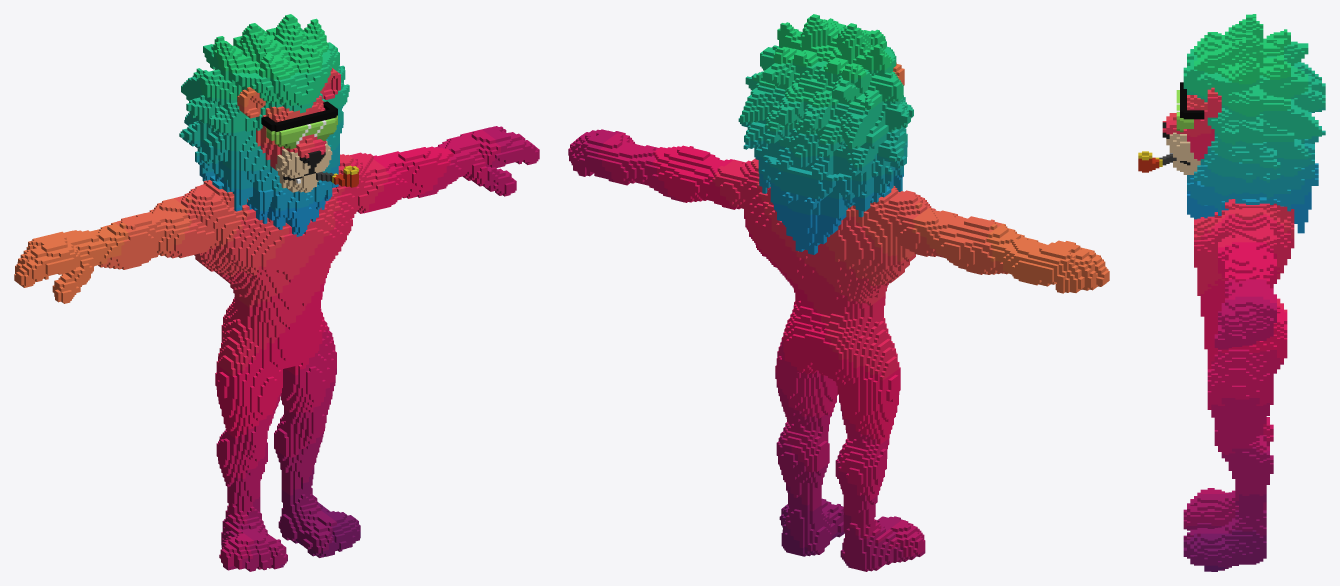
The model's file is 237-BJuMXq-b.glb.
3 renders of one model, left to right at view 1: azimuth 30°, elevation 25°; view 2: azimuth 150°, elevation 25°; view 3: azimuth 270°, elevation 25°, orthographic. The views are drawn at different scales.
Parts seen in each view (by area): view 1: pipe; view 2: pipe; view 3: pipe.
Part boxes in pixels (box(x1,y1,x2,y2)): pipe: box(14, 14, 539, 571); pipe: box(568, 14, 1109, 571); pipe: box(1138, 14, 1325, 571).
Size of the model in its own units: 17.2 by 16.5 by 5.4.
Materials: 4 (4 with a texture image).
